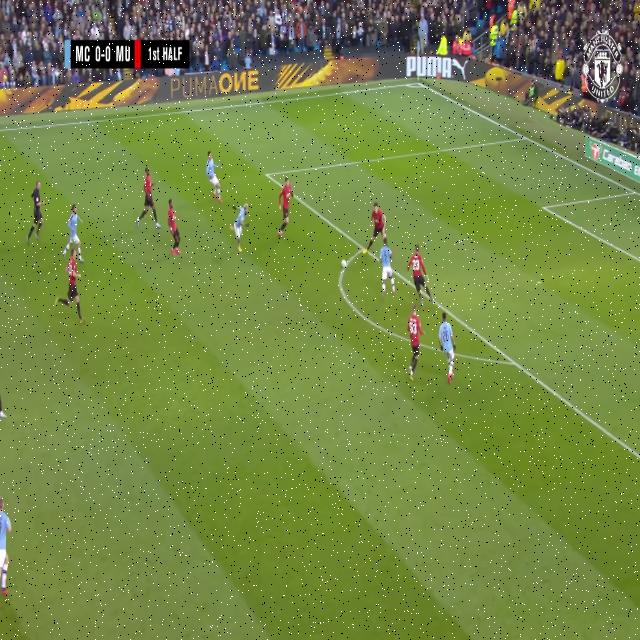Ball: (340, 255, 349, 276)
TEAM 1: (58, 246, 86, 323), (137, 167, 160, 230), (407, 306, 423, 382), (368, 200, 388, 255), (276, 176, 292, 238), (380, 240, 396, 296)
TEAM 2: (408, 246, 434, 304), (0, 494, 13, 598), (438, 316, 457, 385), (64, 202, 85, 260), (206, 150, 223, 204), (232, 203, 250, 252), (167, 198, 182, 255)
